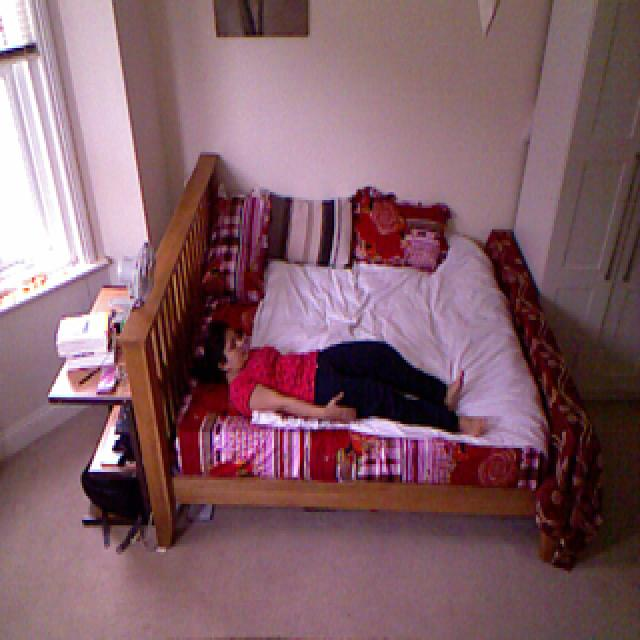lying: (194, 318, 497, 442)
